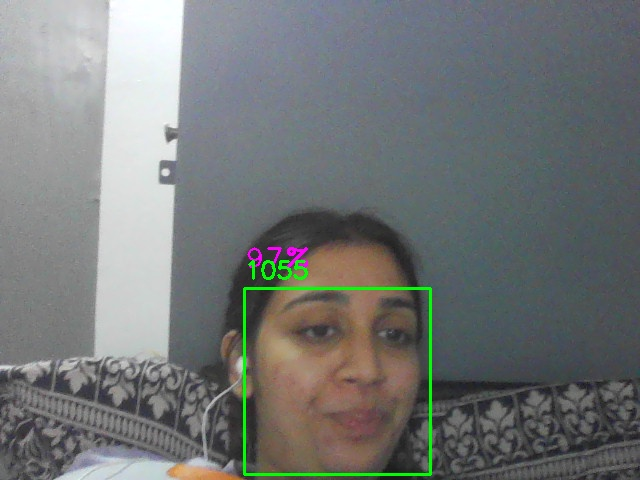real: (244, 288, 431, 475)
